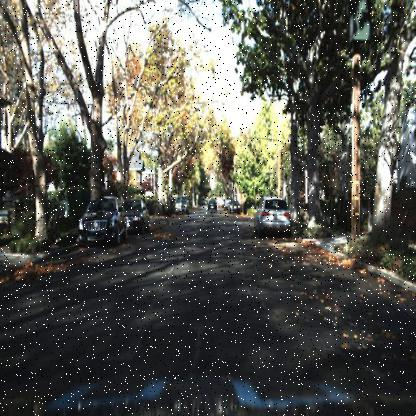car: (76, 194, 130, 250), (254, 193, 294, 239), (119, 198, 150, 233), (127, 196, 151, 238), (173, 198, 190, 216), (223, 197, 242, 213), (227, 197, 242, 216), (206, 196, 220, 212)
